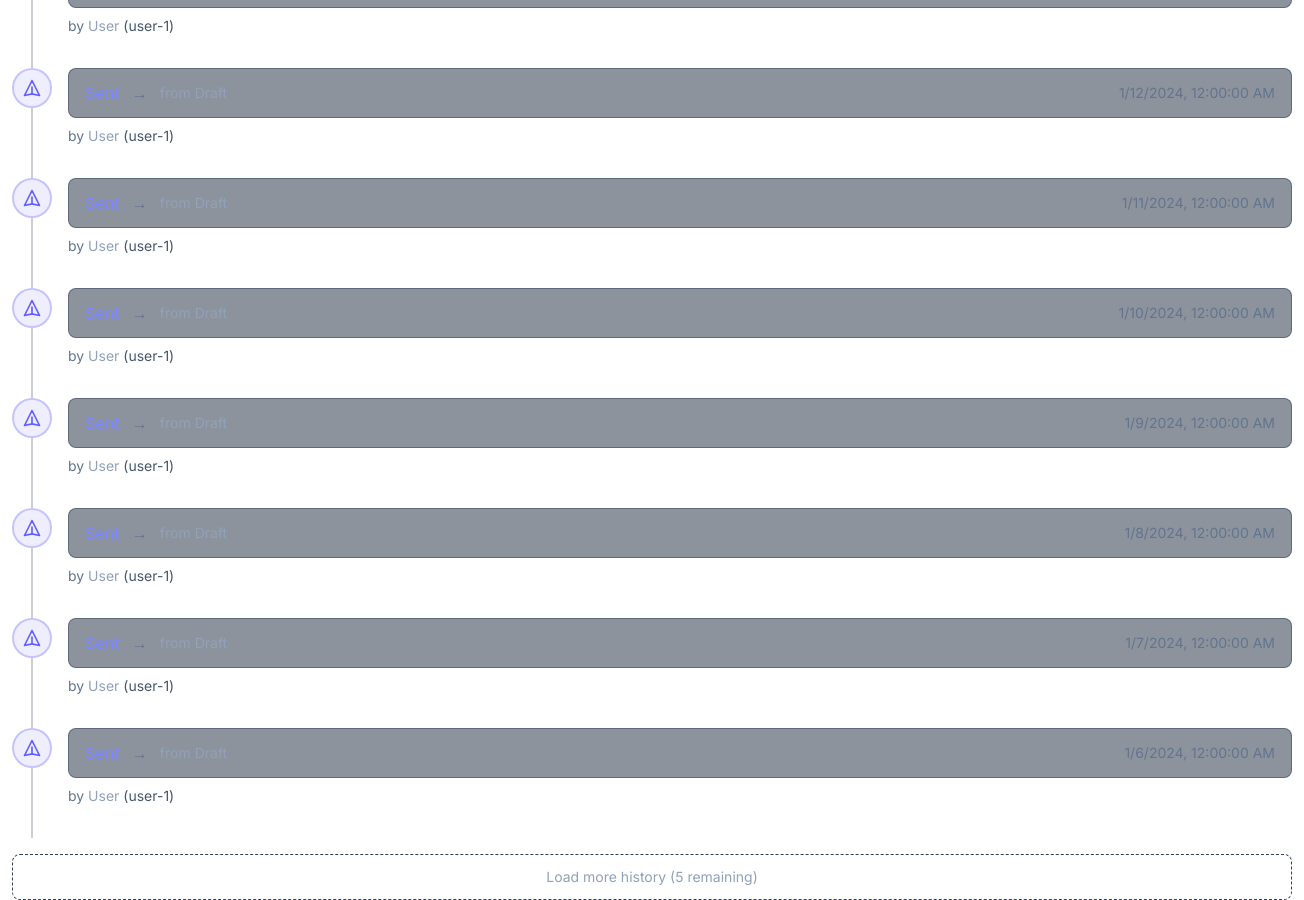
StatusHistory Component › StatusHistory › should load more items when load more is clicked
(page scrolled)
Click the button "Load more history (5 remaining)": (652, 877) [12,854,1292,899]
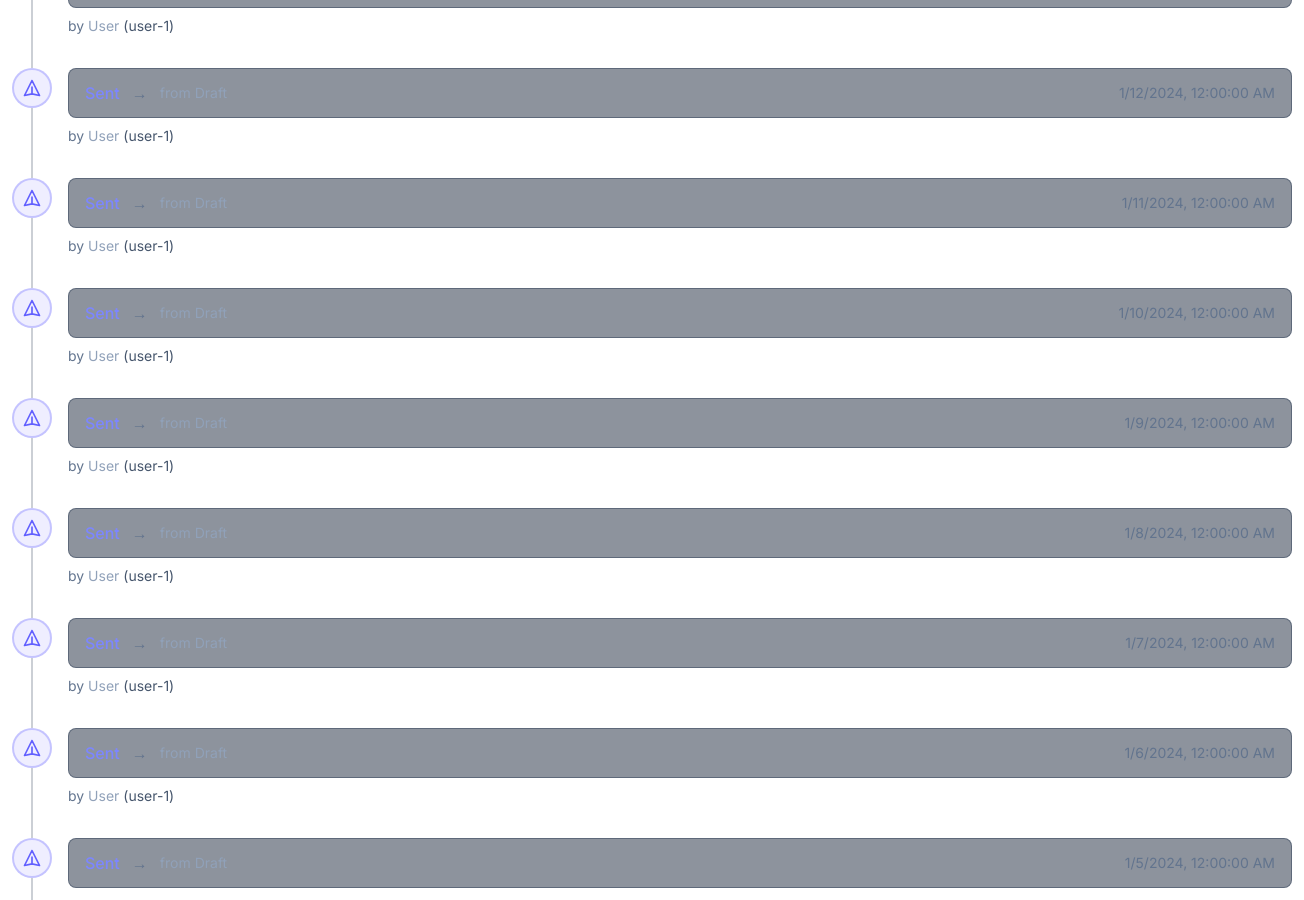
Result: the button "Load more history" is gone
